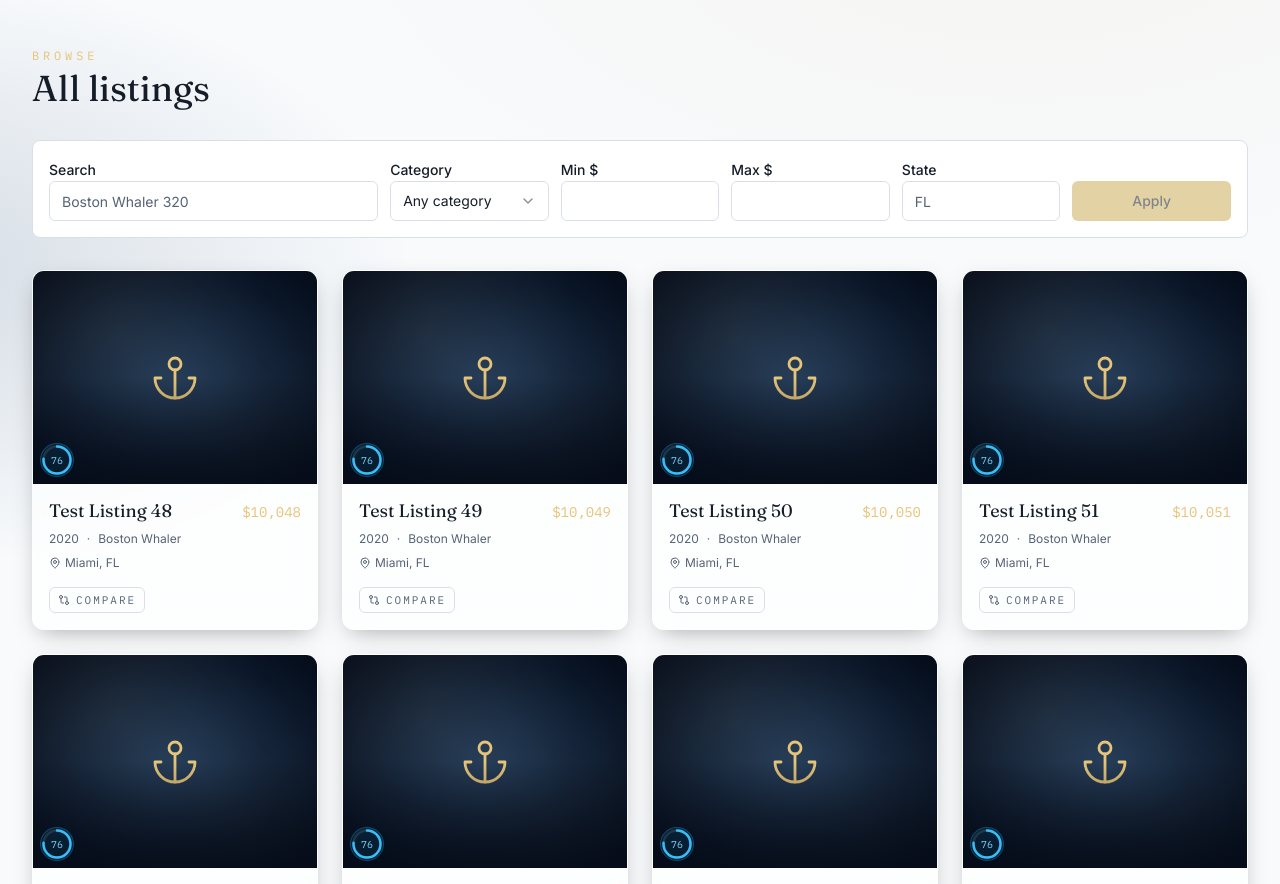
Test: BrowsePage pagination › resets to page 1 when filters change
The image size is (1280, 884).
Expected: the heading "Test Listing 48" is shown, 49,499 -> 172,522
Type "whaler" into the field labelled "Search". click: (214, 201)
box: 49,181 -> 378,221
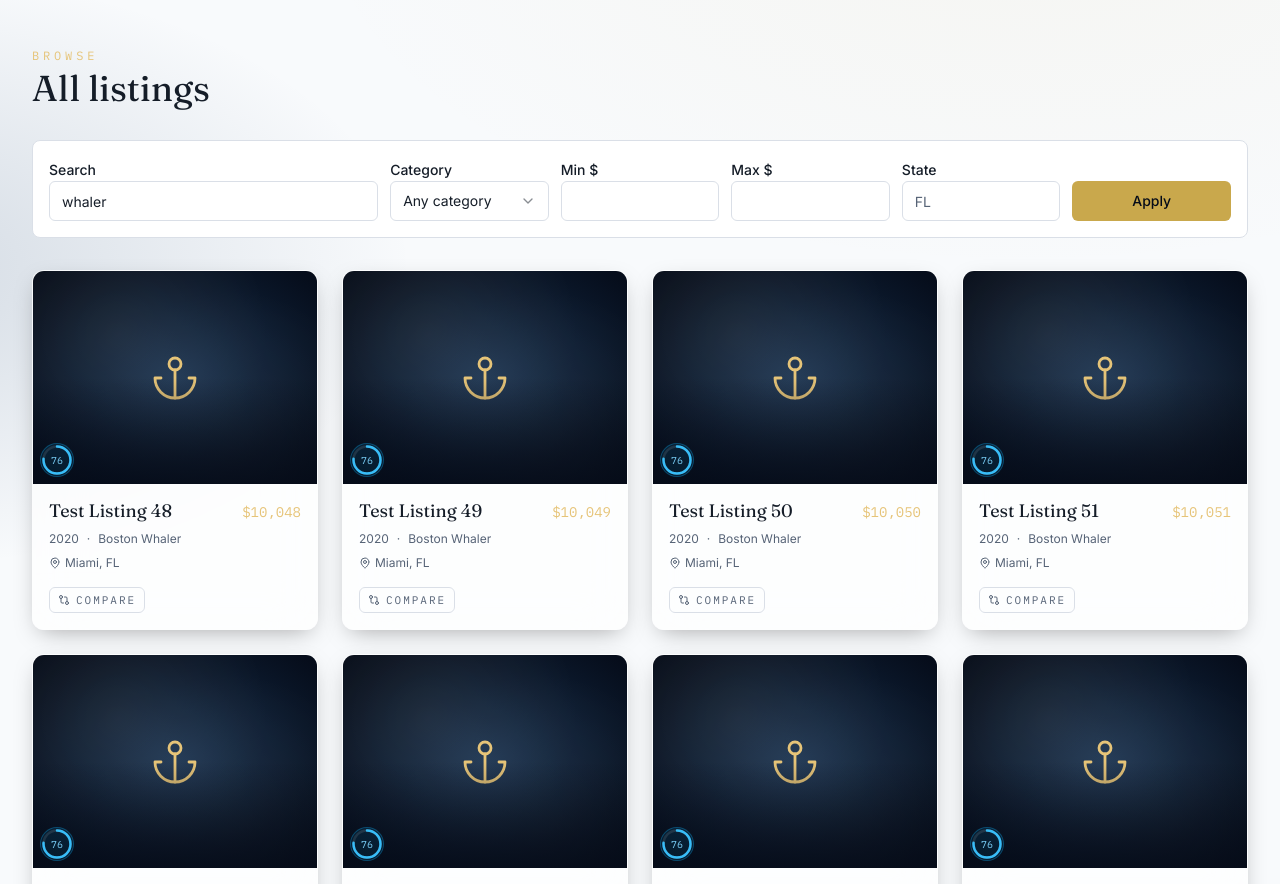
Click the button "Apply". click: (1152, 201)
box: 1072,181 -> 1231,221
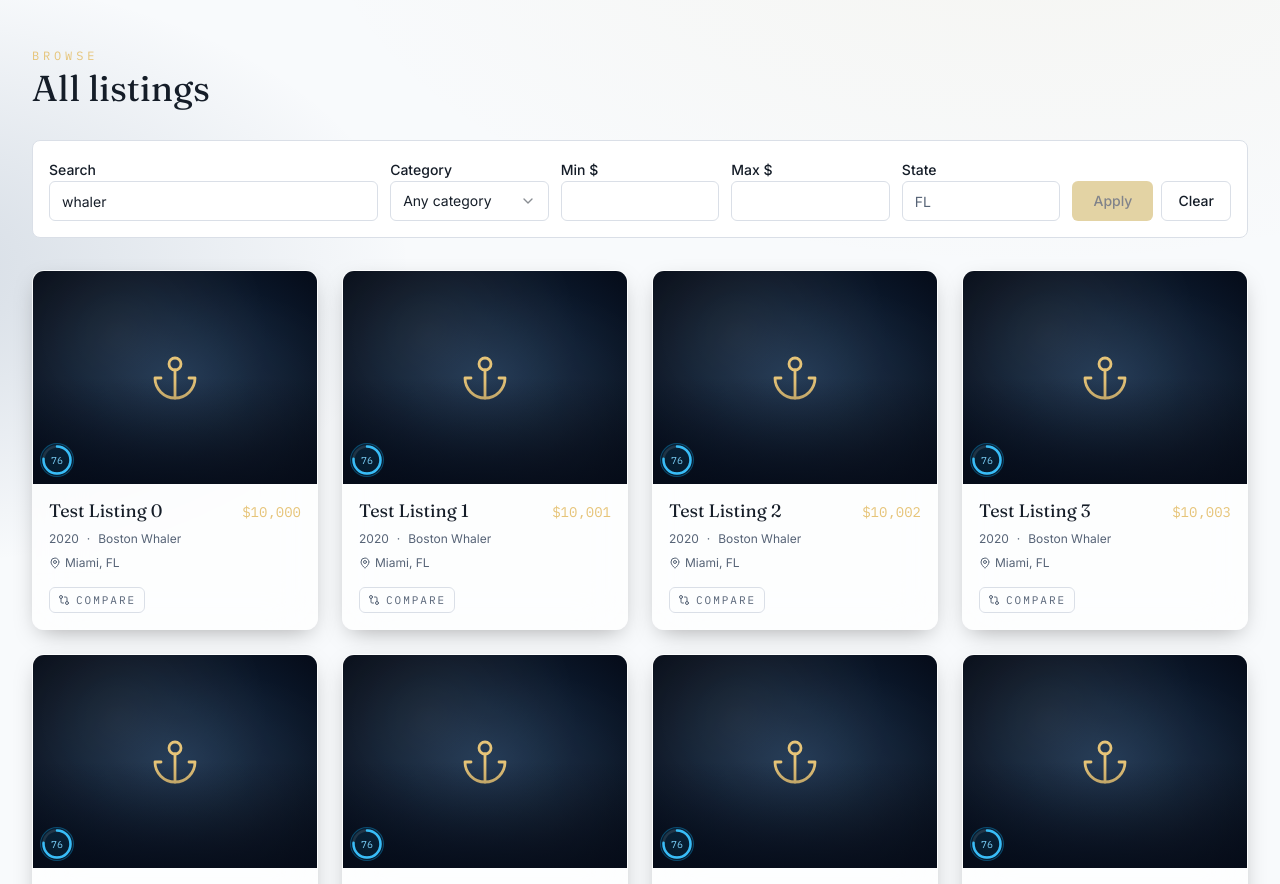
Expected: the heading "Test Listing 0" is shown, 49,499 -> 162,522
